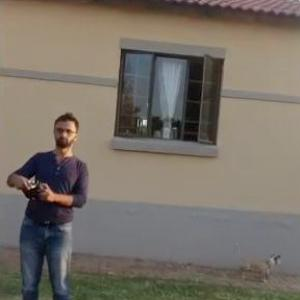follow: (0, 103, 97, 299)
null: (230, 240, 284, 282)
